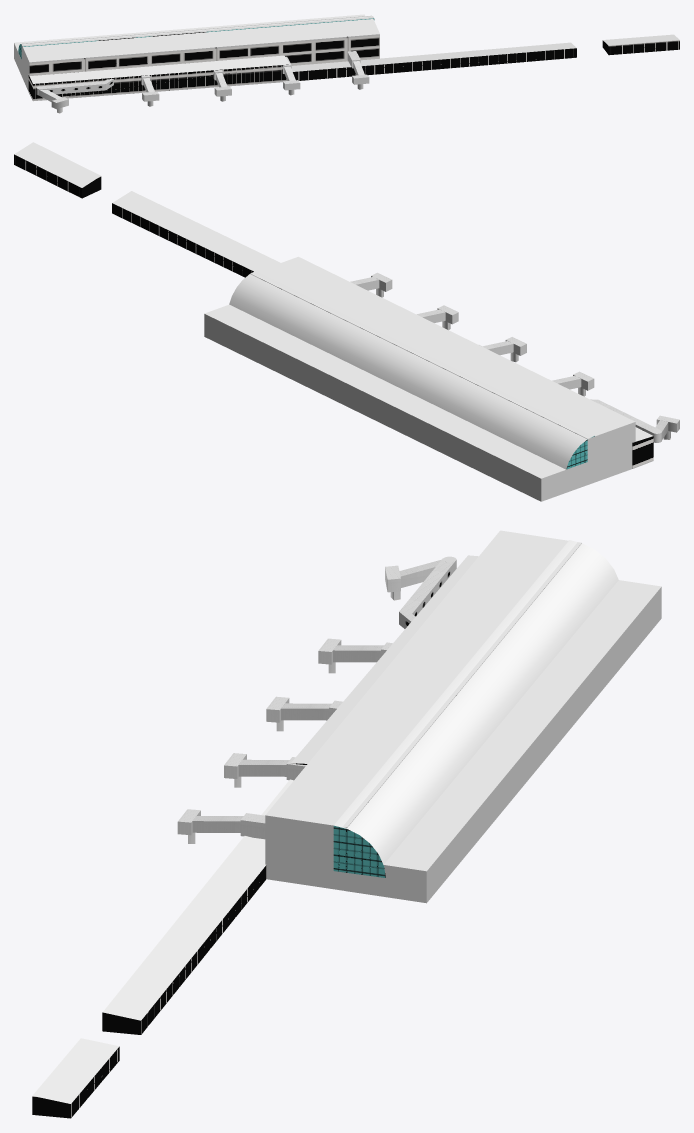
Rendered from darwin.gltf.
The picture shows the model from 3 angles, top to bottom: view 1: azimuth 30°, elevation 25°; view 2: azimuth 150°, elevation 25°; view 3: azimuth 270°, elevation 25°; orthographic projection. The views are drawn at different scales.
Parts seen in each view (by area): view 1: Roof, Buffer Object, Buffer Object 6, Buffer Object 1, Buffer Object 7, Buffer Object 9, Buffer Object 12, Buffer Object 15, Buffer Object 4, Buffer Object 14, Buffer Object 13, Buffer Object 8 (+2 smaller); view 2: Roof, Buffer Object 3, Buffer Object 5, Buffer Object 1, Buffer Object 9, Buffer Object 13, Buffer Object 6, Buffer Object 14, Buffer Object 8, Buffer Object 15; view 3: Roof, Buffer Object 3, Buffer Object 5, Buffer Object 7, Buffer Object 1, Buffer Object 4, Buffer Object 15, Buffer Object 14, Buffer Object 13, Buffer Object 9, Buffer Object 8, Buffer Object 12 (+1 smaller).
Part boxes in pixels (x1,y1,x2,y2): Roof: (14,14,679,71); Buffer Object: (29,34,379,75); Buffer Object 6: (28,64,288,101); Buffer Object 1: (293,48,576,80); Buffer Object 7: (29,55,289,83); Buffer Object 9: (602,40,679,55); Buffer Object 12: (40,79,113,94); Buffer Object 15: (347,51,369,89); Buffer Object 4: (18,18,374,59); Buffer Object 14: (282,56,300,95); Buffer Object 13: (213,70,231,101); Buffer Object 8: (141,75,159,106); Roof: (14,142,635,478); Buffer Object 3: (204,314,587,501); Buffer Object 5: (587,422,635,484); Buffer Object 1: (112,203,253,277); Buffer Object 9: (14,154,101,198); Buffer Object 13: (479,337,526,362); Buffer Object 6: (632,436,653,468); Buffer Object 14: (417,305,458,330); Buffer Object 8: (552,371,594,396); Buffer Object 15: (350,272,392,297); Roof: (32,530,661,1103); Buffer Object 3: (345,587,661,903); Buffer Object 5: (265,815,346,890); Buffer Object 7: (291,555,478,763); Buffer Object 1: (102,865,266,1034); Buffer Object 4: (333,825,385,877); Buffer Object 15: (177,809,265,843); Buffer Object 14: (224,753,306,787); Buffer Object 13: (266,696,342,731); Buffer Object 9: (32,1046,119,1118); Buffer Object 8: (318,638,392,673); Buffer Object 12: (399,558,455,628).
Size of the model in its own units: 464 by 26.46 by 233.
Materials: 13 (9 with a texture image).
